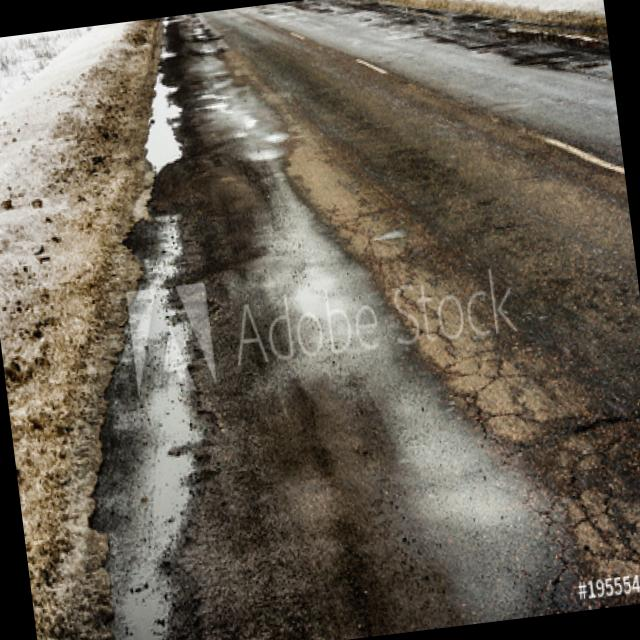Potholes: (24, 213, 235, 640), (437, 0, 609, 120), (193, 68, 313, 188), (116, 59, 196, 188)
